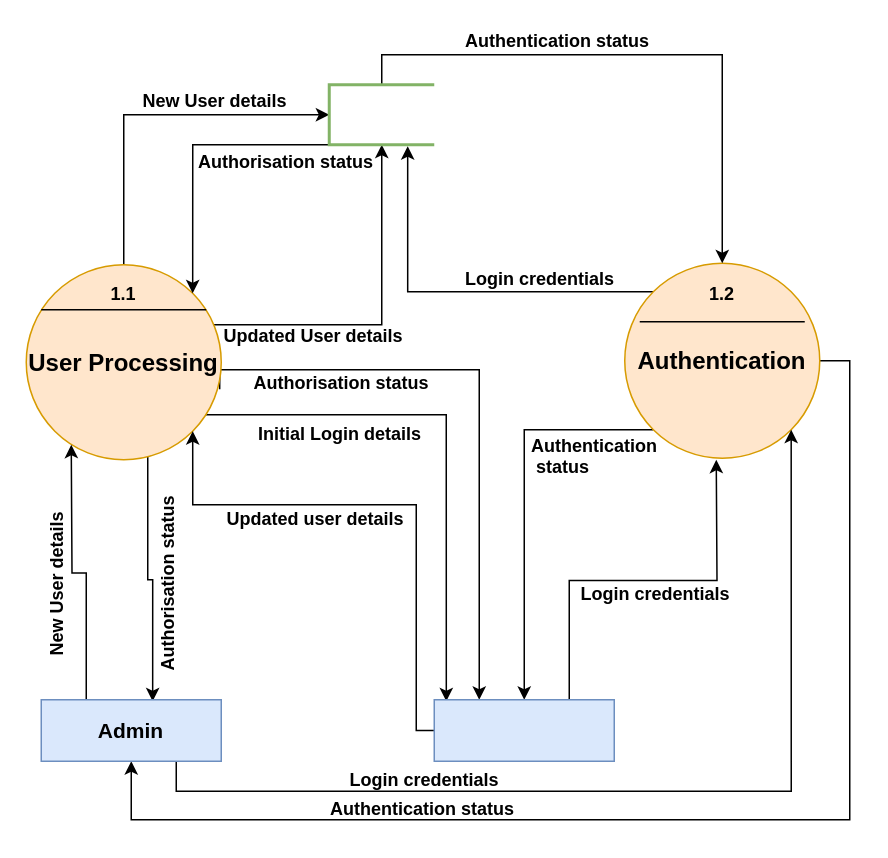
This 888x858 diagram has some shape labels left out. The shapes that lost their labels are listed below. From the top down, each one's box as (x1, y1, x2, y2) in pixels, then its label:
(327, 82, 435, 146): User dB
(433, 698, 614, 761): Employee
